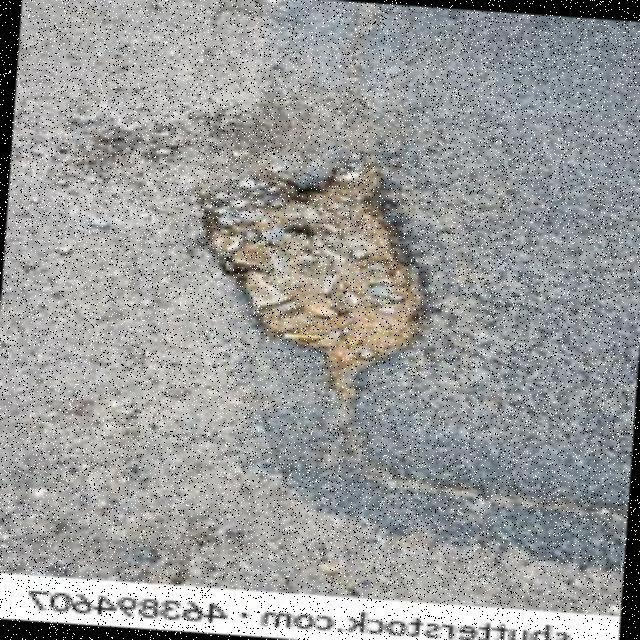Pothole: (200, 153, 424, 404)
